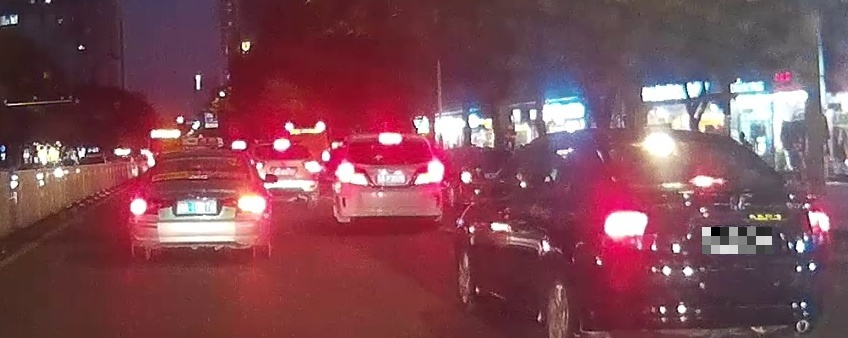L_light: (603, 210, 649, 242), (335, 161, 368, 187), (130, 198, 173, 216)
R_light: (221, 193, 267, 214), (414, 158, 444, 185), (807, 206, 830, 235)
T_light: (688, 175, 729, 187), (378, 133, 402, 146), (188, 175, 208, 179)
night-brake: (578, 127, 833, 338), (334, 133, 444, 230)
night-no: (130, 148, 270, 261)
plate_1: (702, 227, 772, 254)
